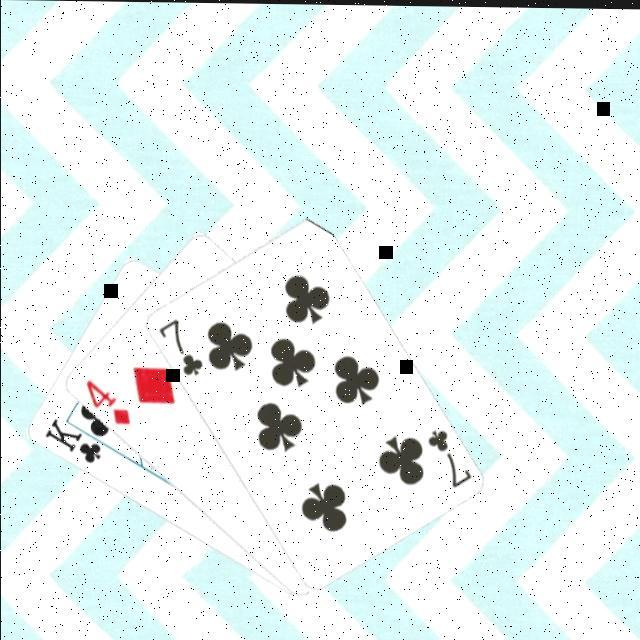4D: (82, 375, 134, 428)
7C: (424, 423, 476, 489), (156, 313, 207, 377)
KC: (42, 413, 117, 466)
